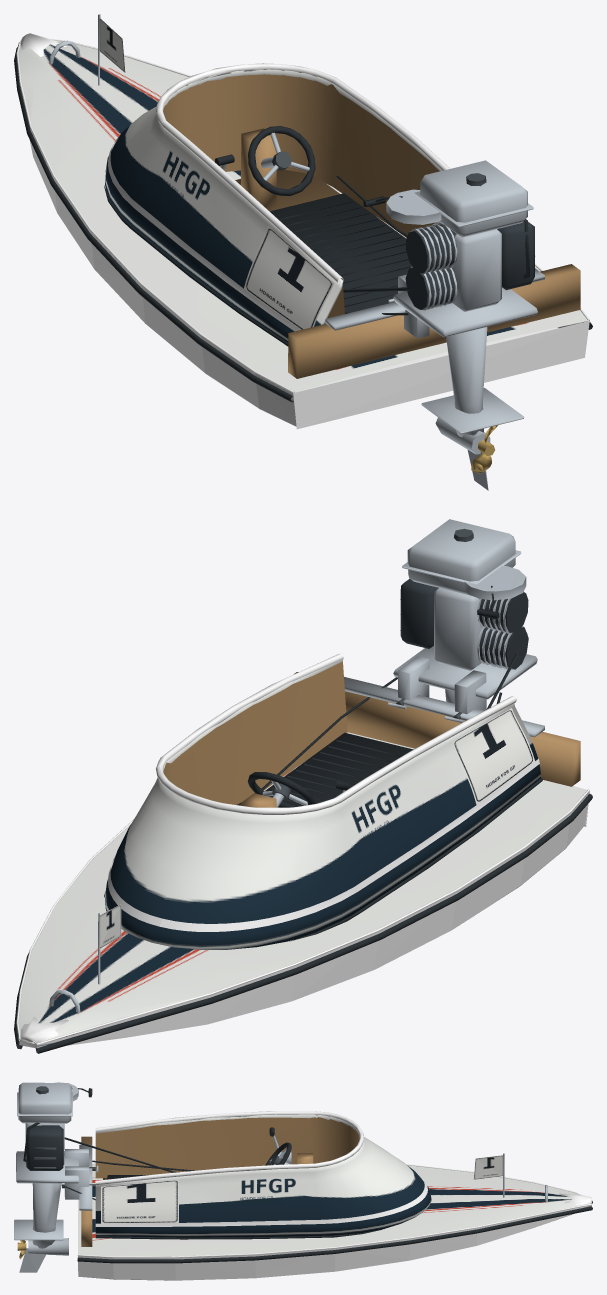
File: boat_lod0.glb
The picture shows the model from 3 angles, top to bottom: view 1: azimuth 30°, elevation 25°; view 2: azimuth 150°, elevation 25°; view 3: azimuth 270°, elevation 25°; orthographic projection. The views are drawn at different scales.
Parts seen in each view (by area): view 1: BoatMesh, MotorMesh; view 2: BoatMesh, MotorMesh; view 3: BoatMesh, MotorMesh.
Part boxes in pixels (left/top/right/bottom): BoatMesh: left=14, top=14, right=592, bottom=429; MotorMesh: left=363, top=160, right=537, bottom=490; BoatMesh: left=14, top=653, right=592, bottom=1053; MotorMesh: left=393, top=519, right=537, bottom=703; BoatMesh: left=61, top=1111, right=592, bottom=1280; MotorMesh: left=14, top=1082, right=92, bottom=1272.
Bounding box in the file's own units: 1.34 × 1.15 × 3.26.
Materials: 4 (2 with a texture image).
